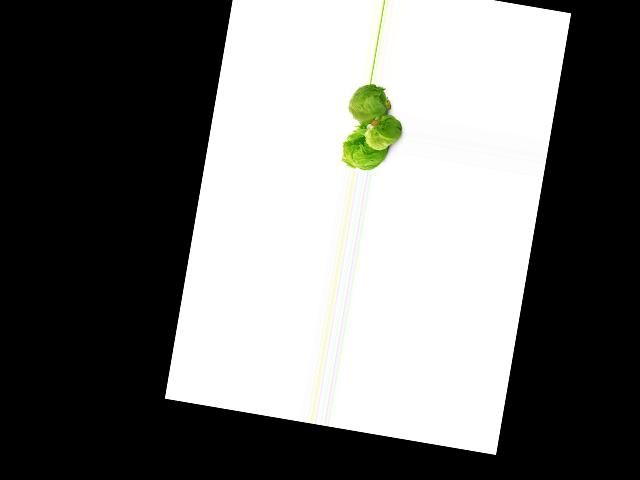lettuce: (342, 128, 387, 171)
